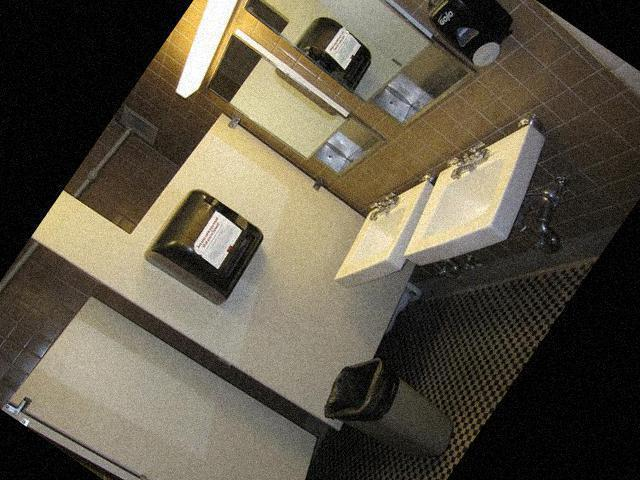Bote de Basura: (311, 342, 468, 480)
Lavamanos: (381, 83, 574, 294), (324, 146, 461, 305)
